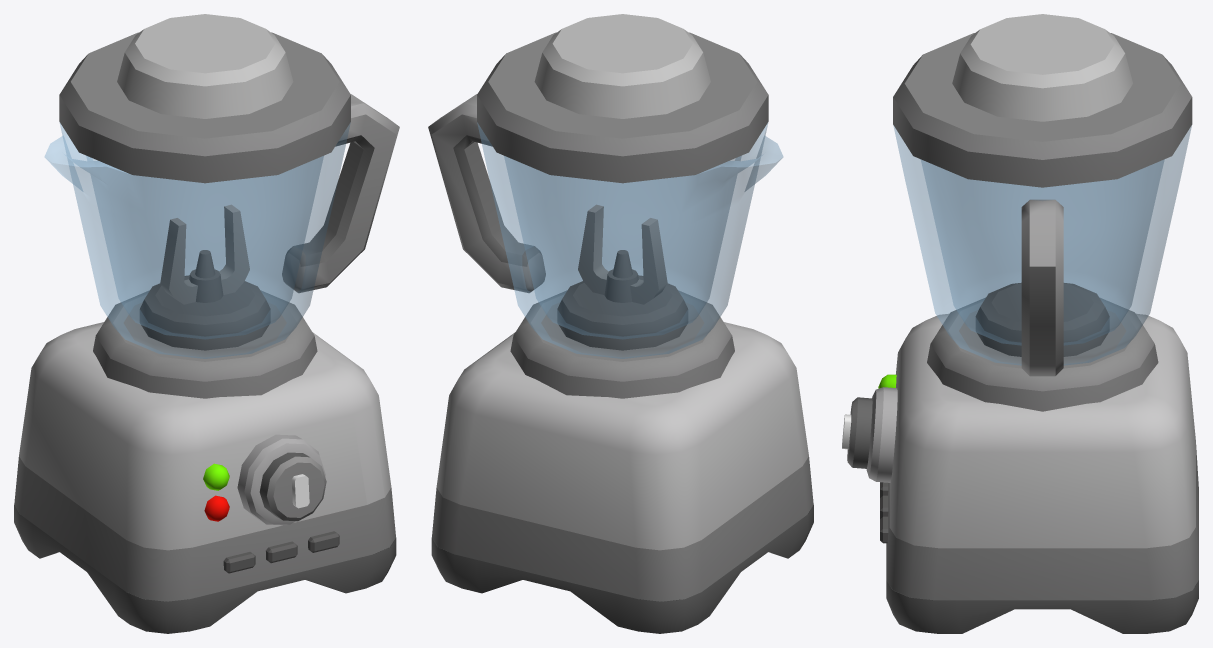
The model's file is Blender_01.fbx.
The picture shows the model from 3 angles, left to right: view 1: azimuth 30°, elevation 25°; view 2: azimuth 150°, elevation 25°; view 3: azimuth 270°, elevation 25°; orthographic projection. The views are drawn at different scales.
Parts seen in each view (by area): view 1: Blender_01; view 2: Blender_01; view 3: Blender_01.
Boxes of the visible parts, x1,y1,x2,y2 form: Blender_01: (14, 14, 399, 633); Blender_01: (428, 14, 813, 633); Blender_01: (842, 14, 1198, 633).
Bounding box in the file's own units: 48.34 × 68.63 × 42.18.
